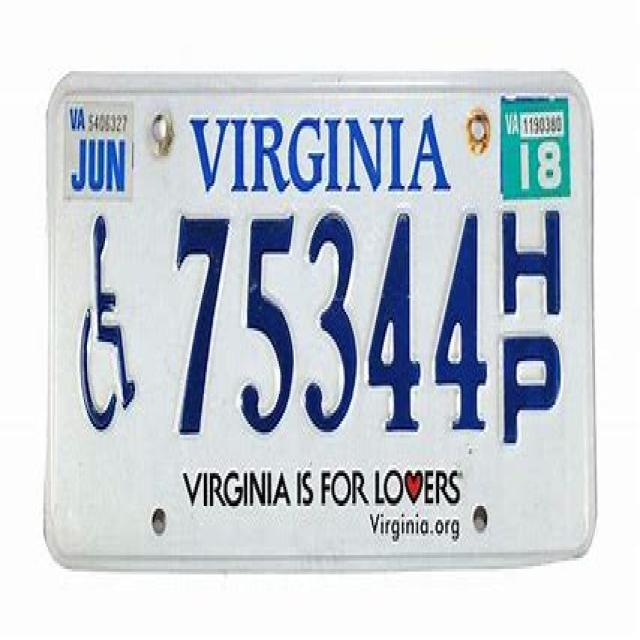symbol_of_access: (76, 210, 138, 438)
